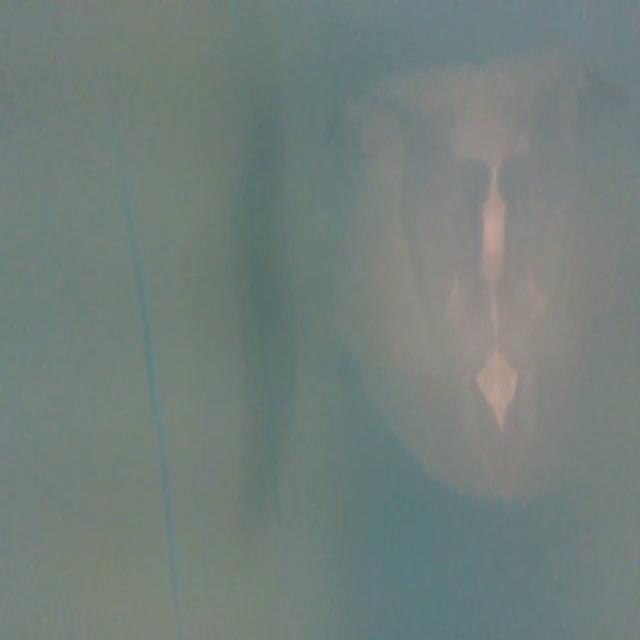plastic bags: (363, 62, 632, 496)
